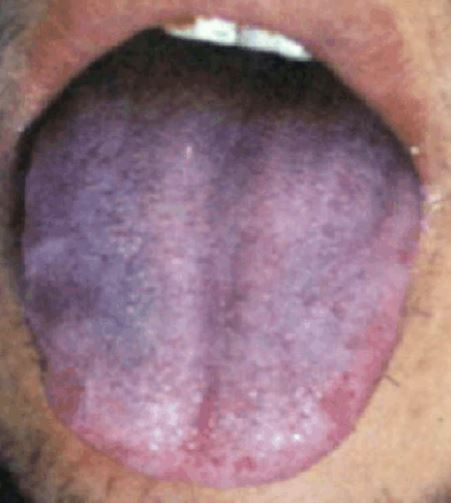pangdashe: (20, 44, 420, 488)
zishe: (20, 44, 420, 488)
